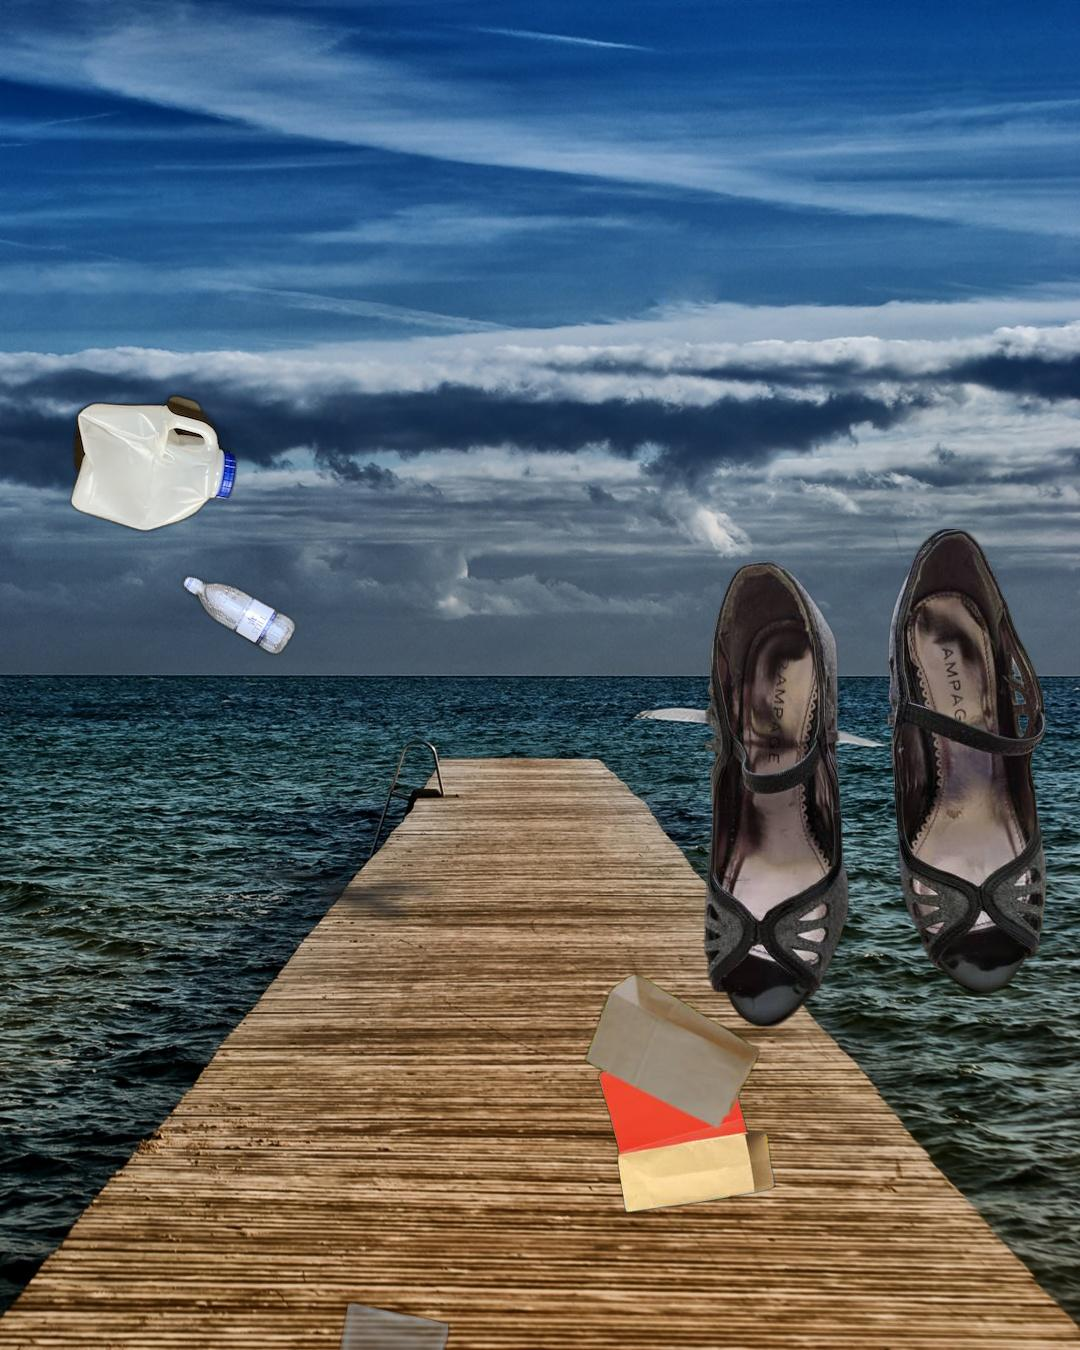paper-bag: (582, 971, 779, 1214), (299, 1284, 514, 1350)
plastic-bottles: (66, 389, 241, 537), (179, 570, 300, 661)
shoes: (701, 529, 1050, 1032)
